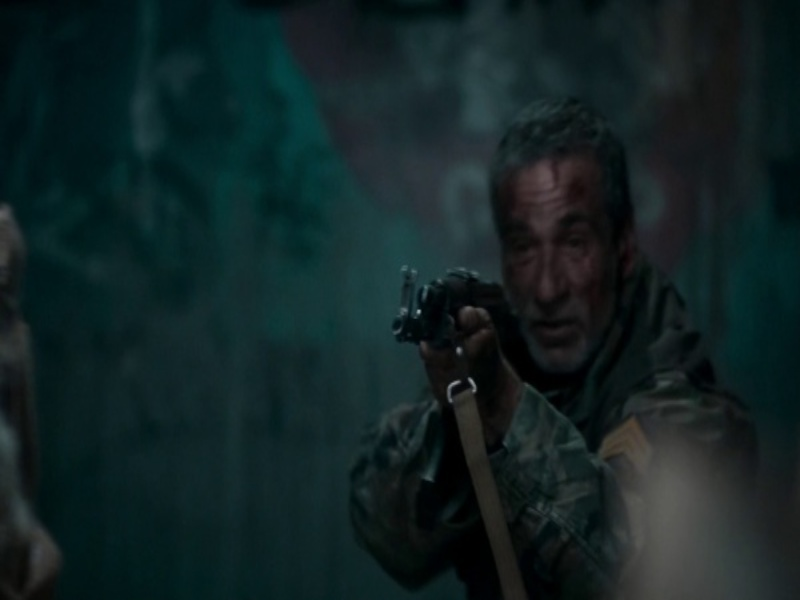person: (342, 96, 763, 597)
weapon: (387, 267, 531, 384)
